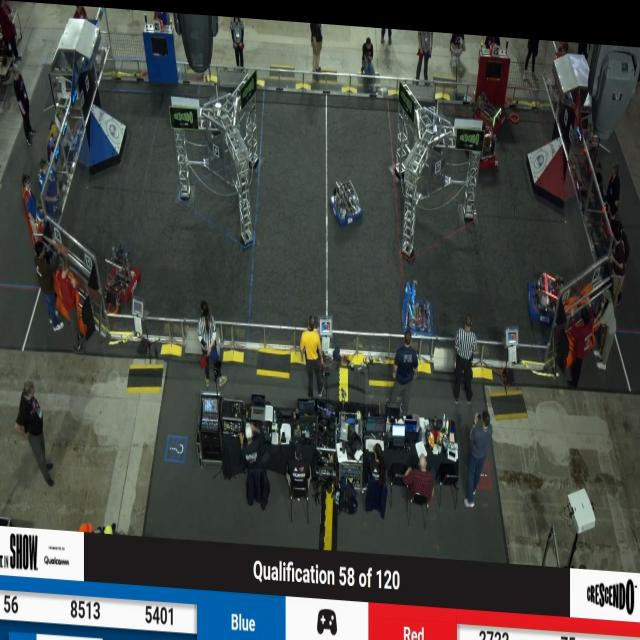Robot: (459, 102, 508, 174), (102, 238, 143, 312), (401, 273, 435, 336), (466, 76, 502, 135), (529, 261, 562, 319), (332, 173, 365, 228)
